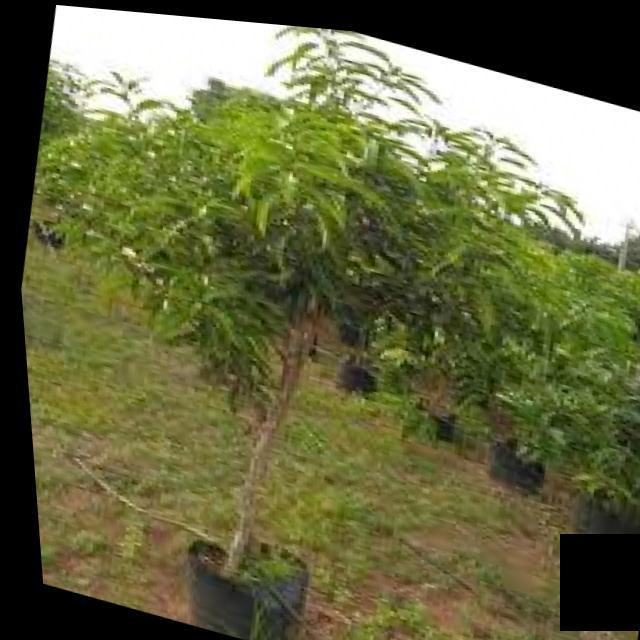Tree: (6, 1, 599, 640)
